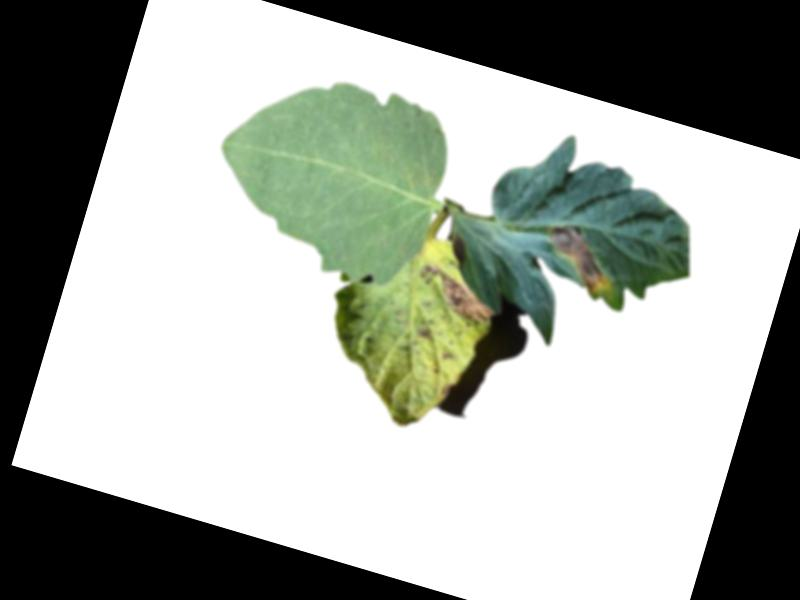Early_blight: (533, 218, 624, 299), (406, 262, 503, 331), (413, 322, 438, 343), (438, 348, 454, 365), (437, 382, 452, 398)
healthy: (195, 49, 467, 297)
